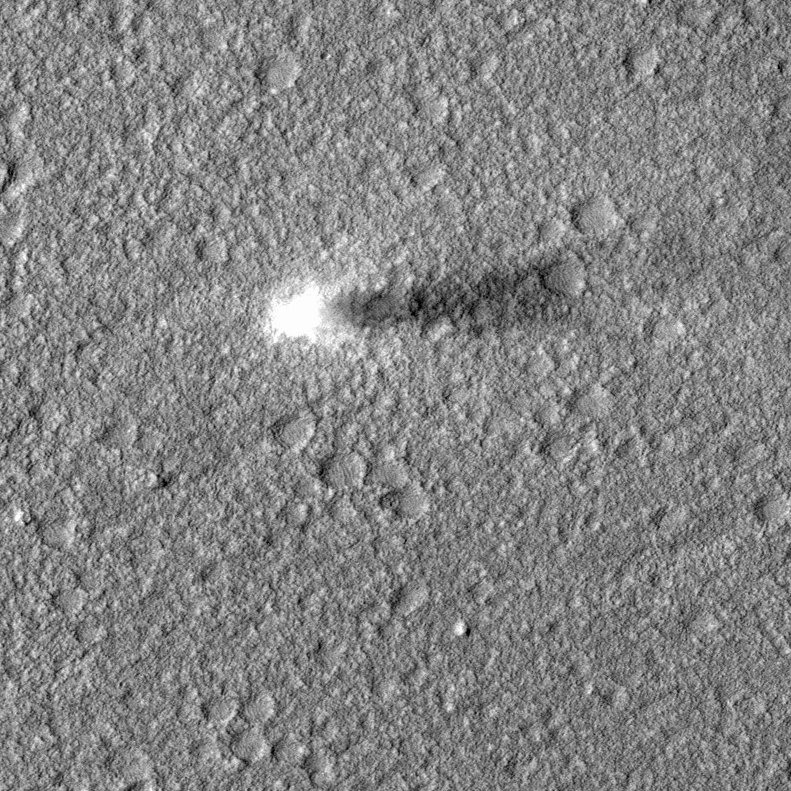dust_devil: (259, 235, 595, 356)
